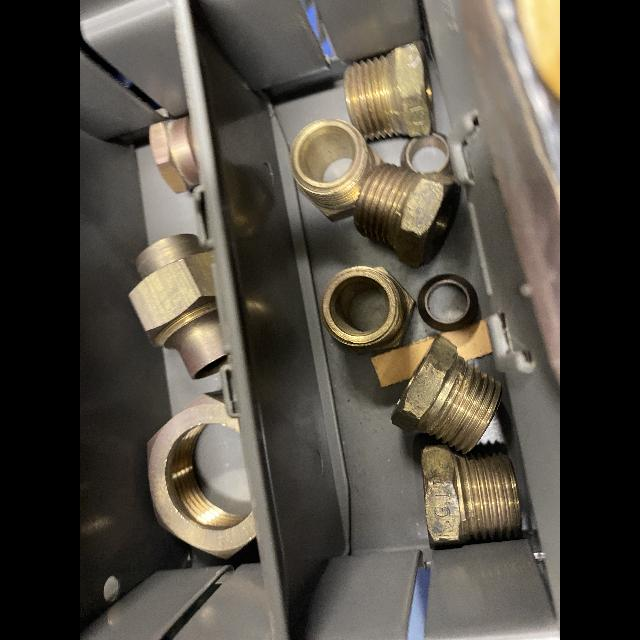Brass: (147, 391, 256, 561), (130, 235, 226, 379), (392, 337, 502, 453), (354, 164, 460, 267), (422, 445, 522, 546), (290, 118, 383, 224), (344, 43, 431, 140), (322, 266, 416, 354), (418, 273, 478, 329), (151, 118, 196, 192), (401, 133, 453, 177)
